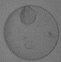small: (20, 6, 36, 26), (24, 41, 34, 50)
